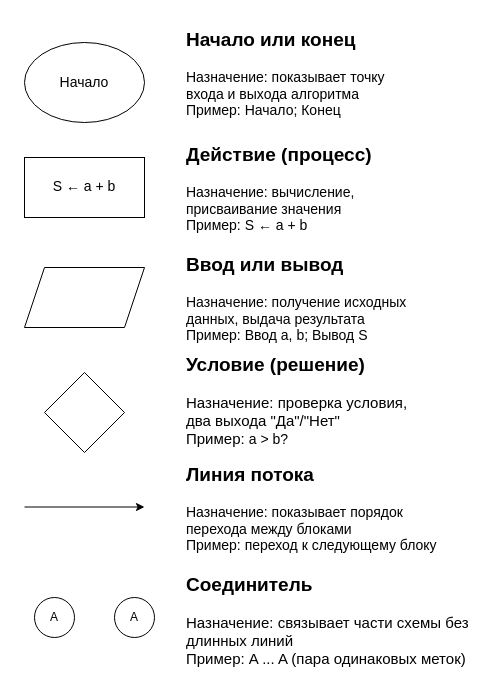
The diagram is 492 pixels wide and 692 high, and some of its shapes have lost their labels. The box of each missing label's shape, as (x1, y1, x2, y2) in pixels:
a > b?: (44, 372, 124, 452)
Ввод a, b: (24, 266, 144, 328)
